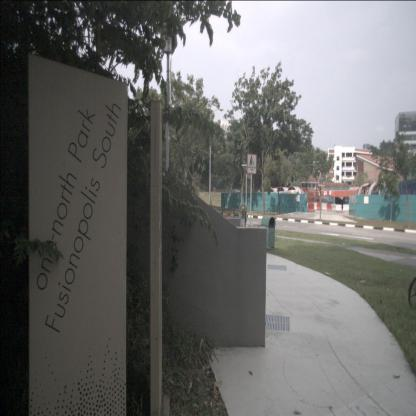barrier: (308, 202, 314, 212), (321, 202, 327, 210), (316, 202, 322, 210), (342, 204, 350, 210), (336, 204, 342, 211), (326, 204, 332, 210), (313, 202, 317, 210), (331, 204, 336, 210)
cone: (224, 212, 229, 218)
